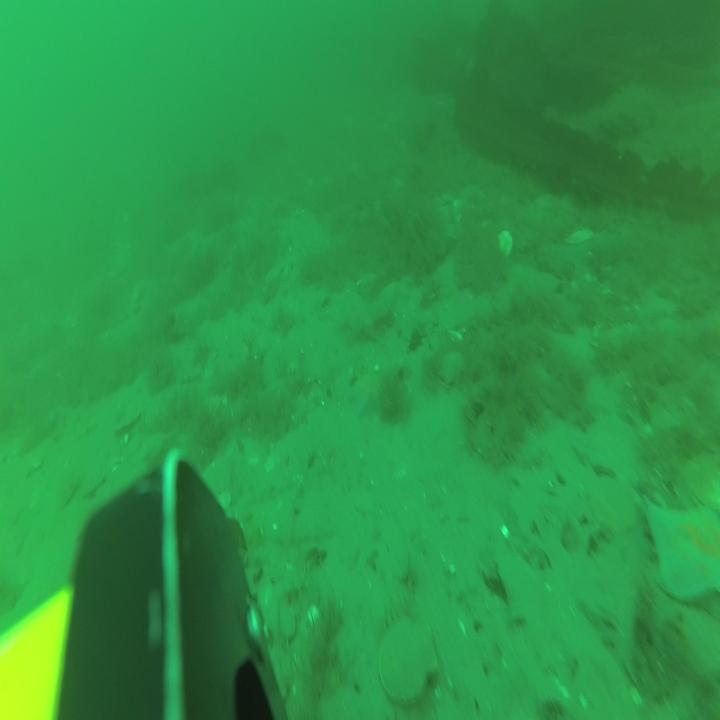scallop: (375, 614, 437, 702), (436, 350, 464, 383), (562, 225, 594, 247), (498, 228, 512, 261)
starfish: (643, 492, 720, 606), (350, 368, 382, 415)
